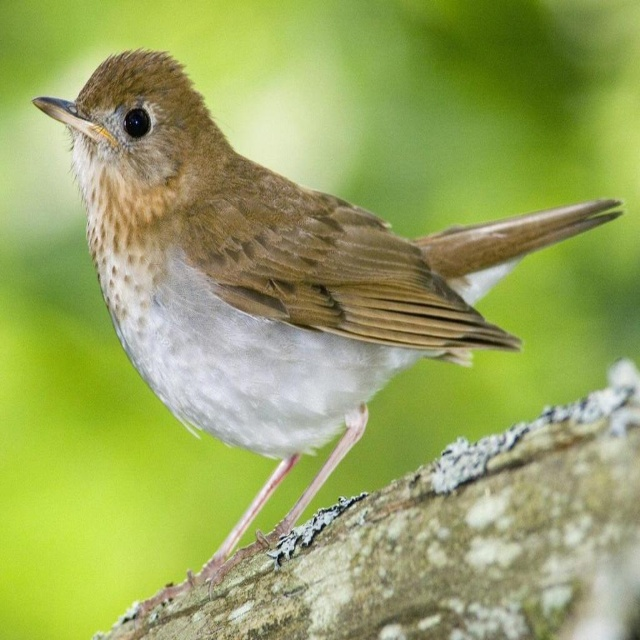Sparrow: (30, 42, 625, 631)
